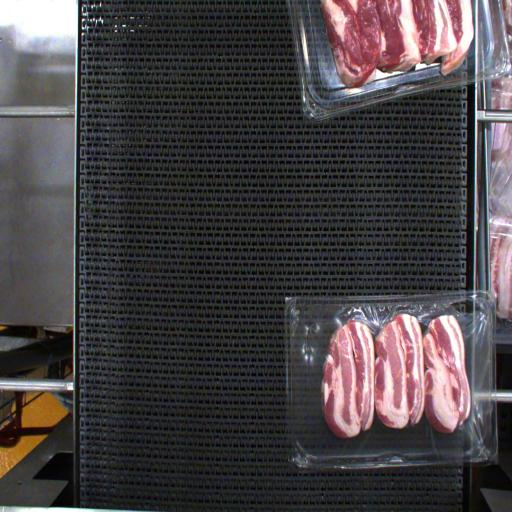unsealed: (284, 291, 492, 454)
